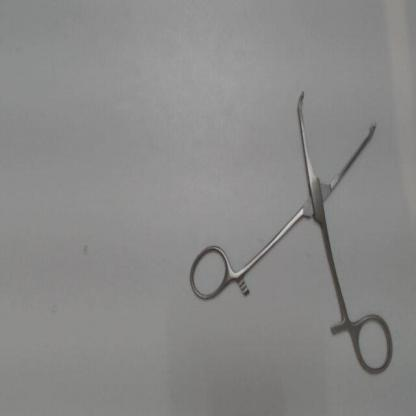Allis Tissue Forceps: (180, 81, 400, 384)
